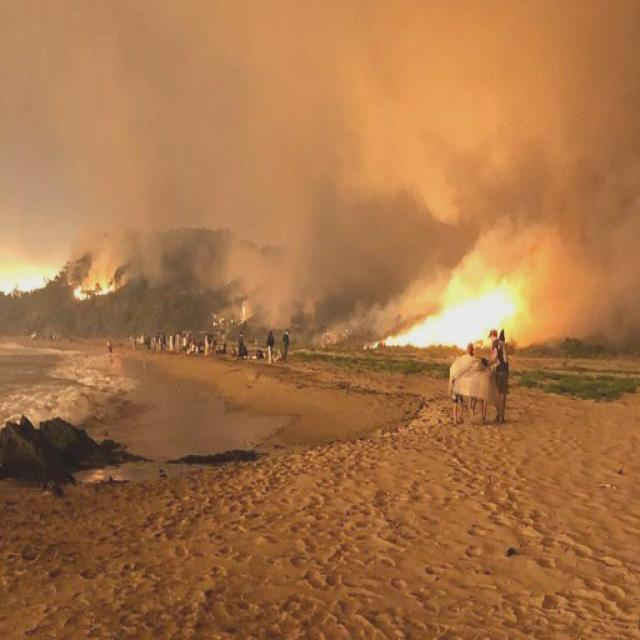Fire: (366, 286, 518, 355), (96, 276, 118, 296), (73, 284, 89, 302), (237, 300, 249, 321)
